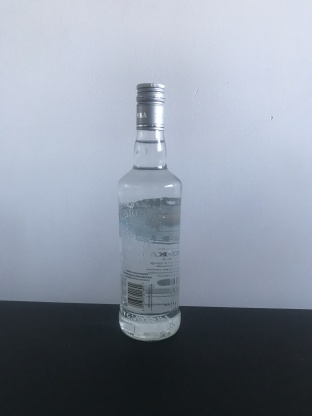nakretka: (134, 81, 166, 133)
